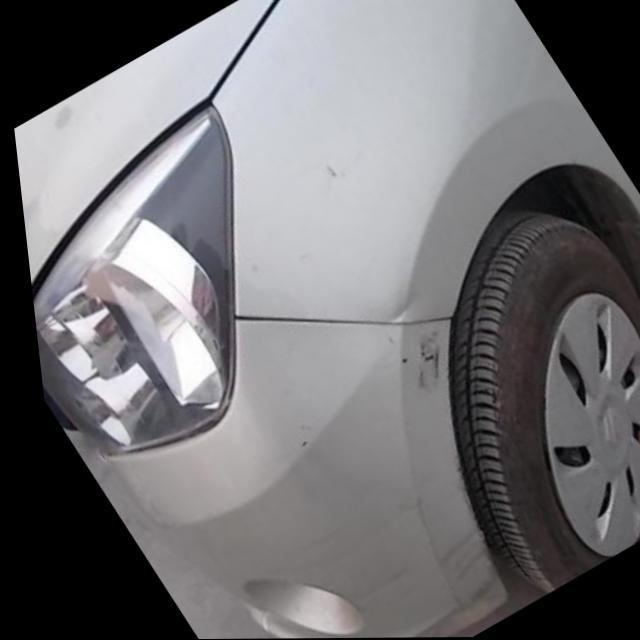rub: (431, 456, 495, 606)
scratch: (386, 329, 447, 387)
